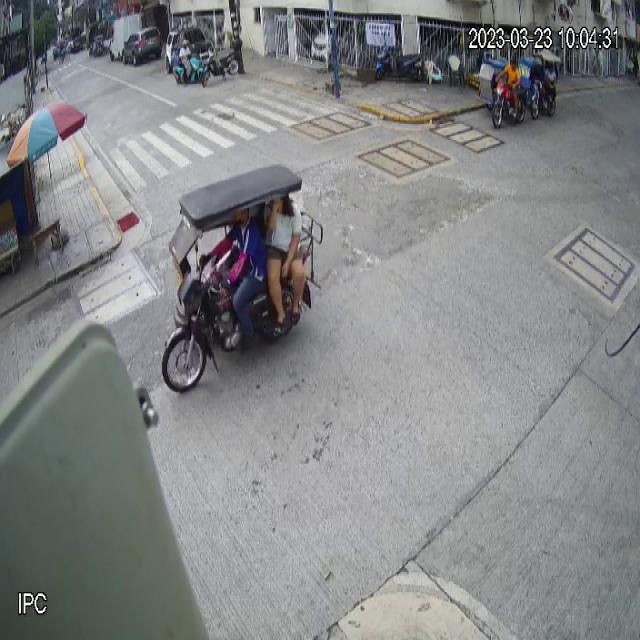Tricycle: (161, 164, 324, 394), (478, 56, 528, 128)
